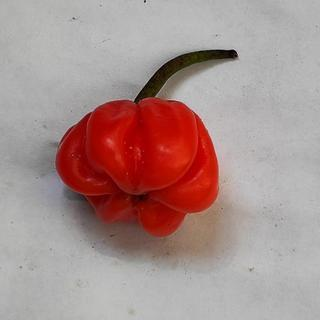Grade-B: (47, 90, 225, 239)
